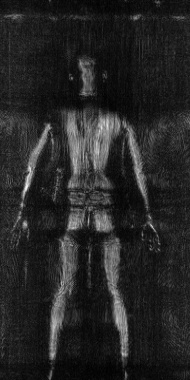gun: (44, 168, 74, 209)
